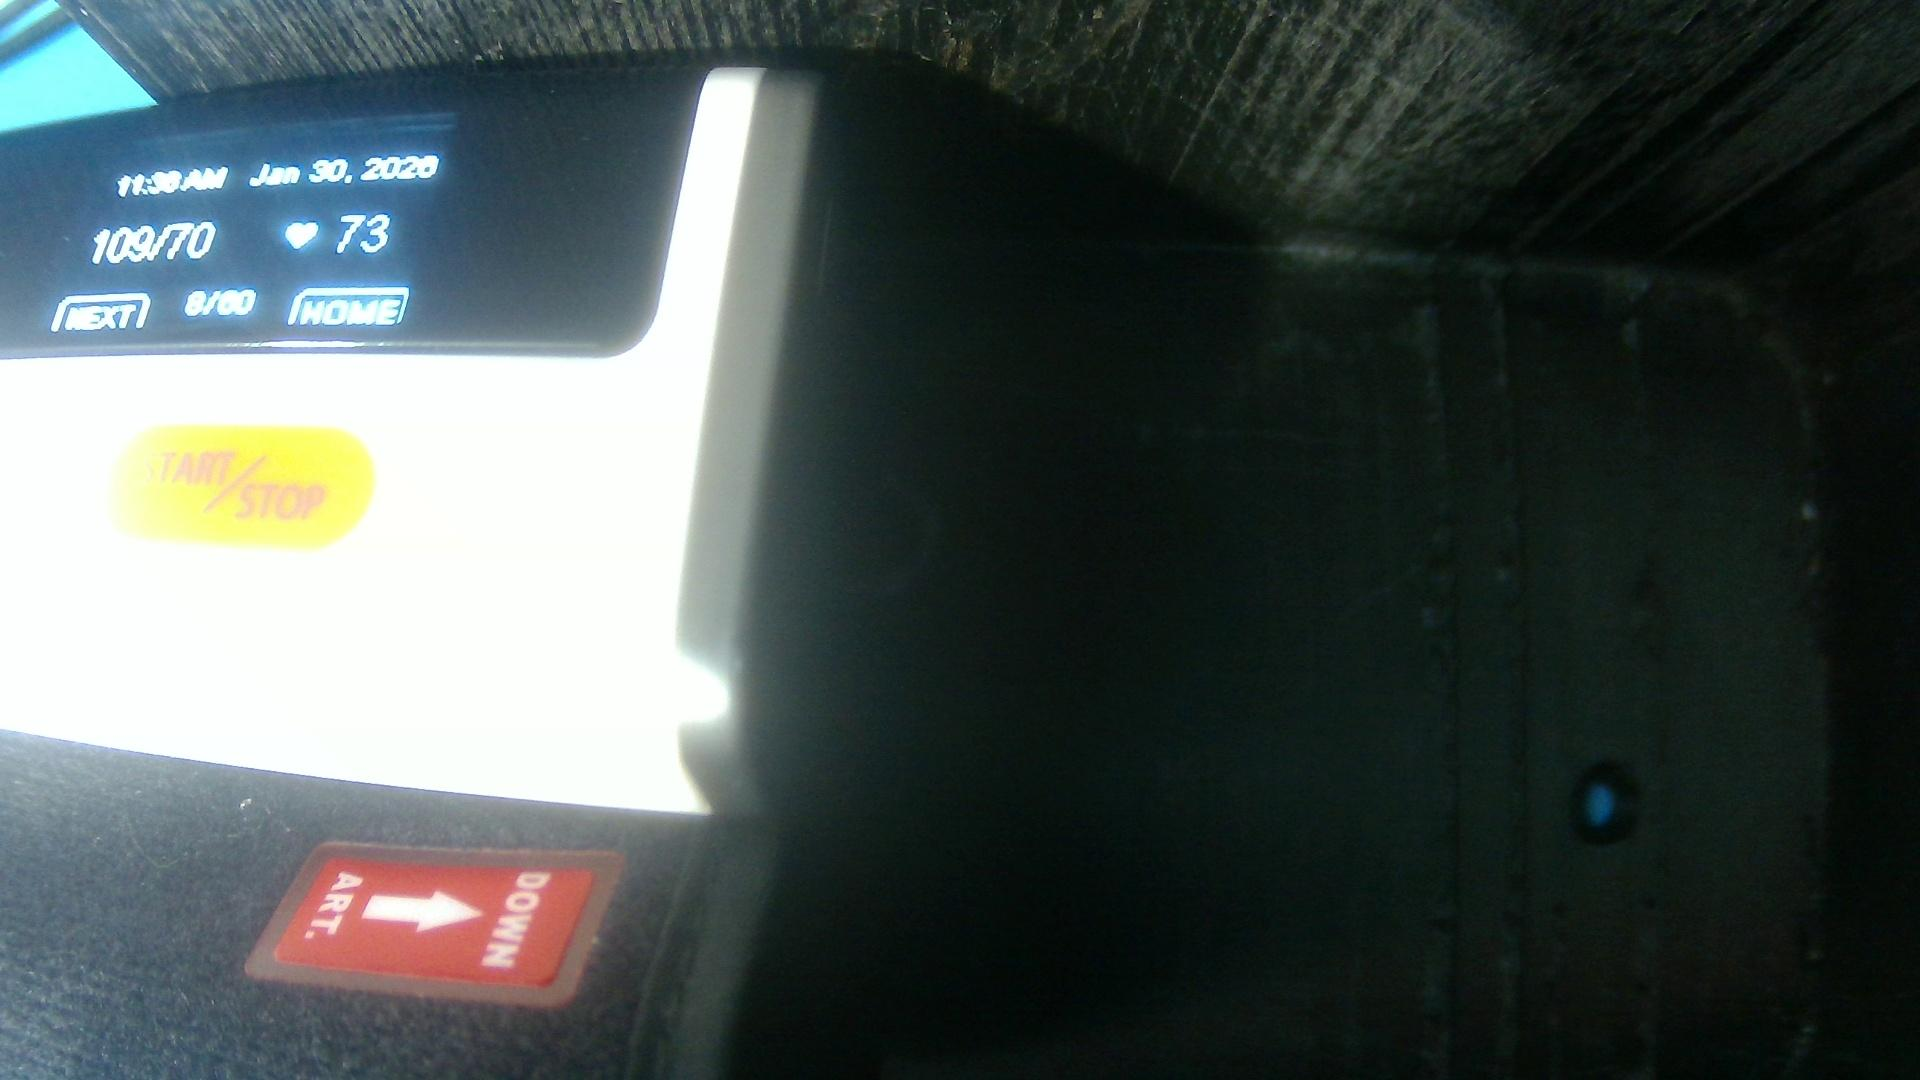DISPLAY: (12, 70, 702, 357)
